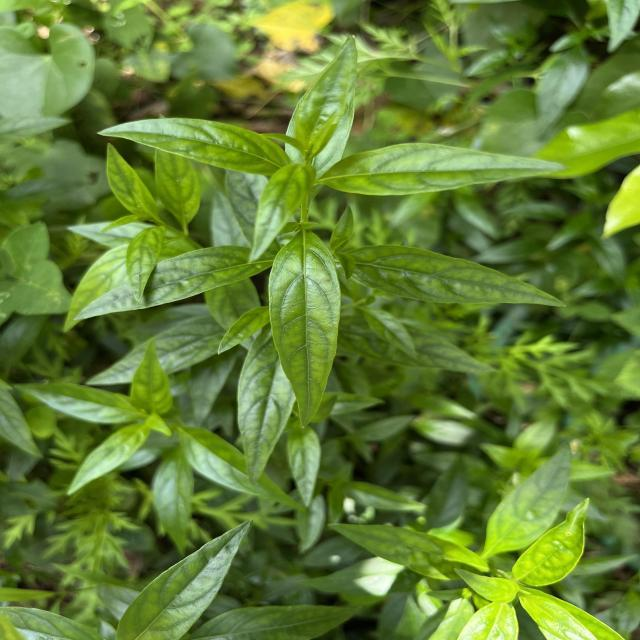Andrographis paniculata: (115, 515, 253, 640), (266, 226, 344, 431), (72, 242, 270, 322), (350, 242, 571, 312), (321, 141, 569, 198), (95, 116, 284, 176), (326, 518, 486, 586), (180, 422, 300, 509), (284, 34, 360, 169), (512, 494, 593, 592), (64, 422, 148, 499), (12, 379, 131, 427), (130, 336, 176, 422)
